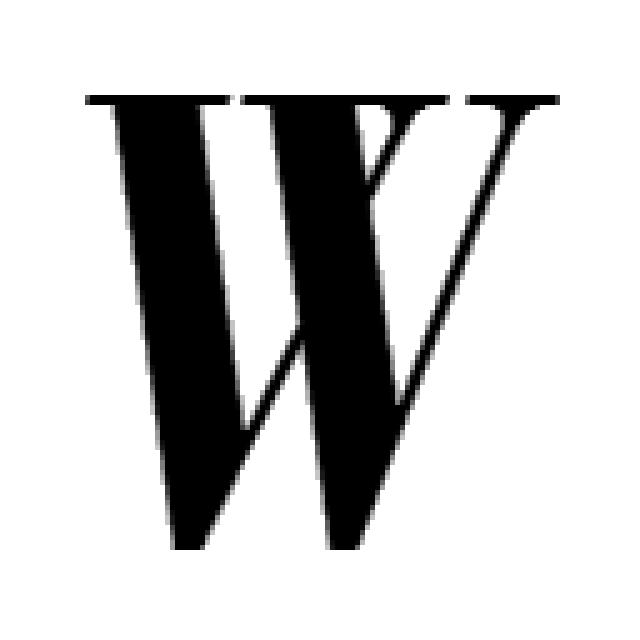W: (75, 80, 565, 555)
